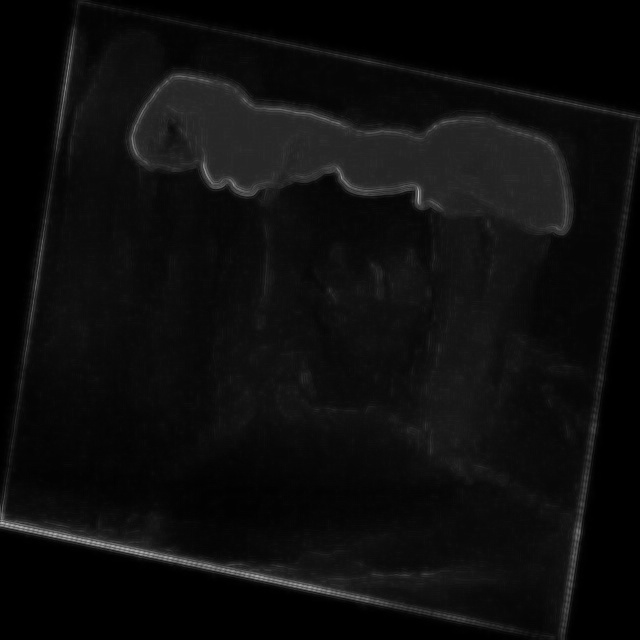Class 2- incomplete endodontic treatment: (296, 95, 456, 402), (202, 75, 334, 355)
cavity: (388, 89, 594, 449), (99, 39, 255, 366)
